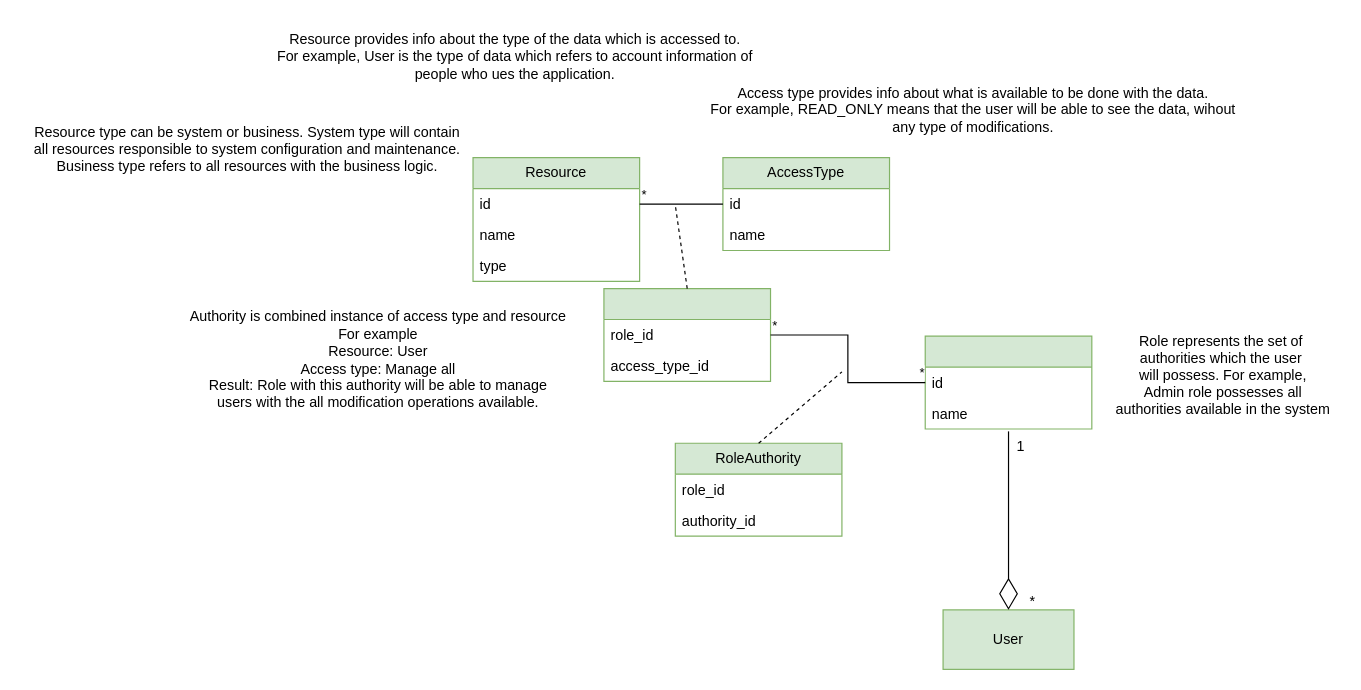
Image size: 1361x690. Some labels were removed from this diagram. The box of each missing label's shape, as (x1, y1, x2, y2) in pixels:
Authority: (603, 287, 771, 381)
Role: (924, 335, 1092, 429)
